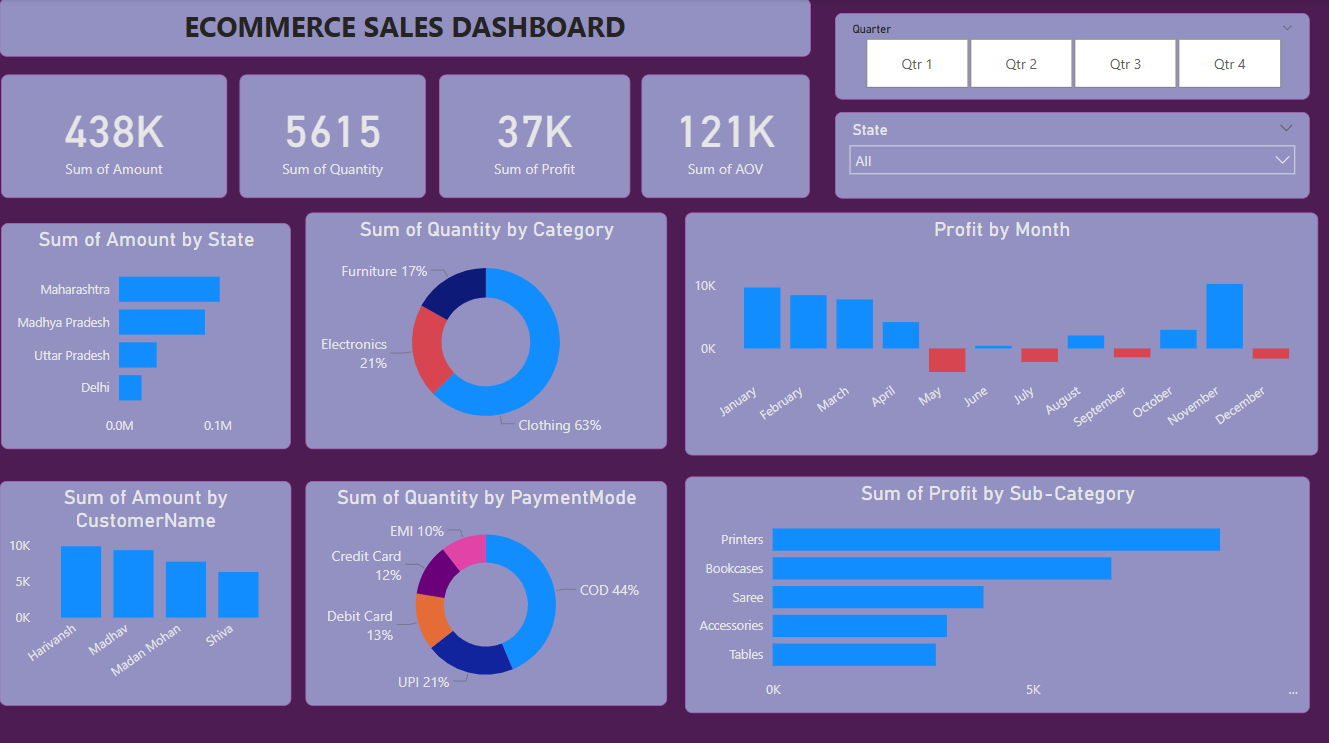

The page's visual inventory and layout, read from the dashboard file:
{"tool":"powerbi","page":{"name":"Page 1","canvas":[1280,720],"ordinal":0},"visuals":[{"type":"textbox","box":[9.5,0,774.6,55.7],"z":0},{"type":"columnChart","title":"Profit by Month","fields":{"Category":["Orders.Order Date.Variation.Date Hierarchy.Month"],"Y":["Details.Profit"]},"box":[664.9,205.2,604.4,232.2],"z":1000},{"type":"barChart","fields":{"Category":["Details.Sub-Category"],"Y":["Details.Profit"]},"box":[664.9,456.5,596.5,225.9],"z":2000},{"type":"donutChart","fields":{"Category":["Details.Category"],"Y":["Details.Quantity"]},"box":[302.2,205.2,345.2,225.9],"z":3000},{"type":"donutChart","fields":{"Category":["Details.PaymentMode","Details.Category"],"Y":["Details.Quantity"]},"box":[302.2,461.3,345.2,214.7],"z":4000},{"type":"card","fields":{"Values":["Details.Amount"]},"box":[11.1,73.2,216.3,117.7],"z":5000},{"type":"card","fields":{"Values":["Details.Quantity"]},"box":[238.6,73.2,178.1,117.7],"z":6000},{"type":"card","fields":{"Values":["Details.Profit"]},"box":[429.5,73.2,182.9,117.7],"z":7000},{"type":"card","fields":{"Values":["Details.AOV"]},"box":[623.5,73.2,160.7,117.7],"z":8000},{"type":"barChart","fields":{"Category":["Orders.State"],"Y":["Details.Amount"]},"box":[11.1,214.7,276.8,216.3],"z":9000},{"type":"columnChart","fields":{"Category":["Orders.CustomerName"],"Y":["Details.Amount"]},"box":[9.5,461.3,278.4,214.7],"z":10000},{"type":"slicer","fields":{"Values":["Orders.Order Date.Variation.Date Hierarchy.Quarter"]},"box":[808,14.3,453.3,82.7],"z":11000},{"type":"slicer","fields":{"Values":["Orders.State"]},"box":[808,108.2,453.3,82.7],"z":12000}]}

Visuals, with their boxes in screenshot pixels (x1, y1, x2, y2), scaled from the page's 1280x720 canvas onto the 1329x743 screenshot:
textbox: (left=10, top=0, right=814, bottom=57)
"Profit by Month" columnChart: (left=690, top=212, right=1318, bottom=451)
barChart - Details.Sub-Category x Details.Profit: (left=690, top=471, right=1310, bottom=704)
donutChart - Details.Category x Details.Quantity: (left=314, top=212, right=672, bottom=445)
donutChart - Details.PaymentMode x Details.Category: (left=314, top=476, right=672, bottom=698)
card - Details.Amount: (left=12, top=76, right=236, bottom=197)
card - Details.Quantity: (left=248, top=76, right=433, bottom=197)
card - Details.Profit: (left=446, top=76, right=636, bottom=197)
card - Details.AOV: (left=647, top=76, right=814, bottom=197)
barChart - Orders.State x Details.Amount: (left=12, top=222, right=299, bottom=445)
columnChart - Orders.CustomerName x Details.Amount: (left=10, top=476, right=299, bottom=698)
slicer - Orders.Order Date.Variation.Date Hierarchy.Quarter: (left=839, top=15, right=1310, bottom=100)
slicer - Orders.State: (left=839, top=112, right=1310, bottom=197)
